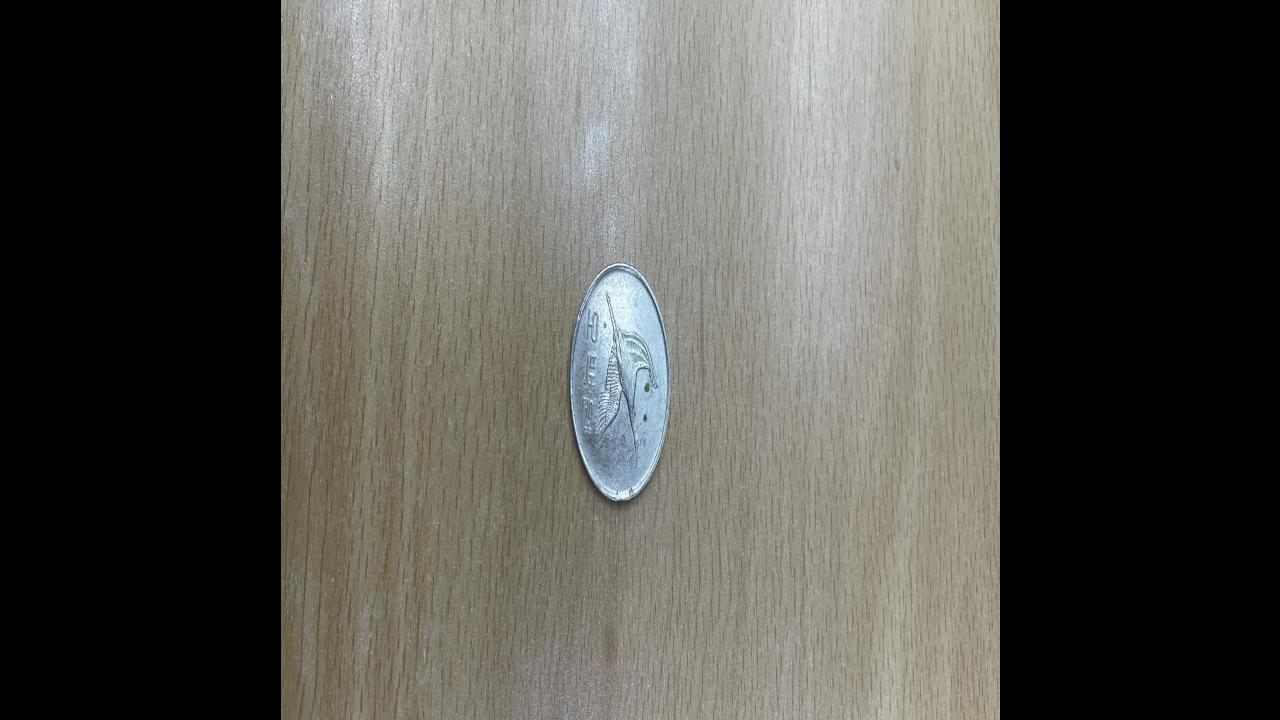coin: (569, 260, 669, 505)
